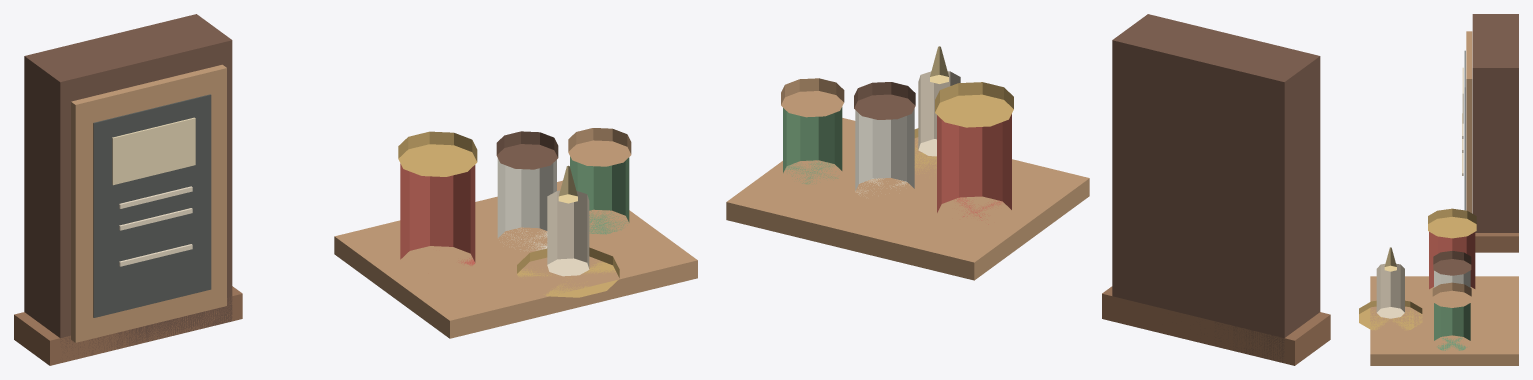
File: dining-detail-pack.glb
3 views of the same model, side by side, from view 1: azimuth 30°, elevation 25°; view 2: azimuth 150°, elevation 25°; view 3: azimuth 270°, elevation 25° (orthographic). The views are drawn at different scales.
Parts seen in each view (by area): view 1: dining_detail_pack_menu_condiments; view 2: dining_detail_pack_menu_condiments; view 3: dining_detail_pack_menu_condiments.
Boxes of the visible parts, x1,y1,x2,y2 form: dining_detail_pack_menu_condiments: (14,14,697,365); dining_detail_pack_menu_condiments: (726,14,1330,365); dining_detail_pack_menu_condiments: (1359,14,1518,365).
Size of the model in its own units: 1.65 by 0.78 by 0.6236.
